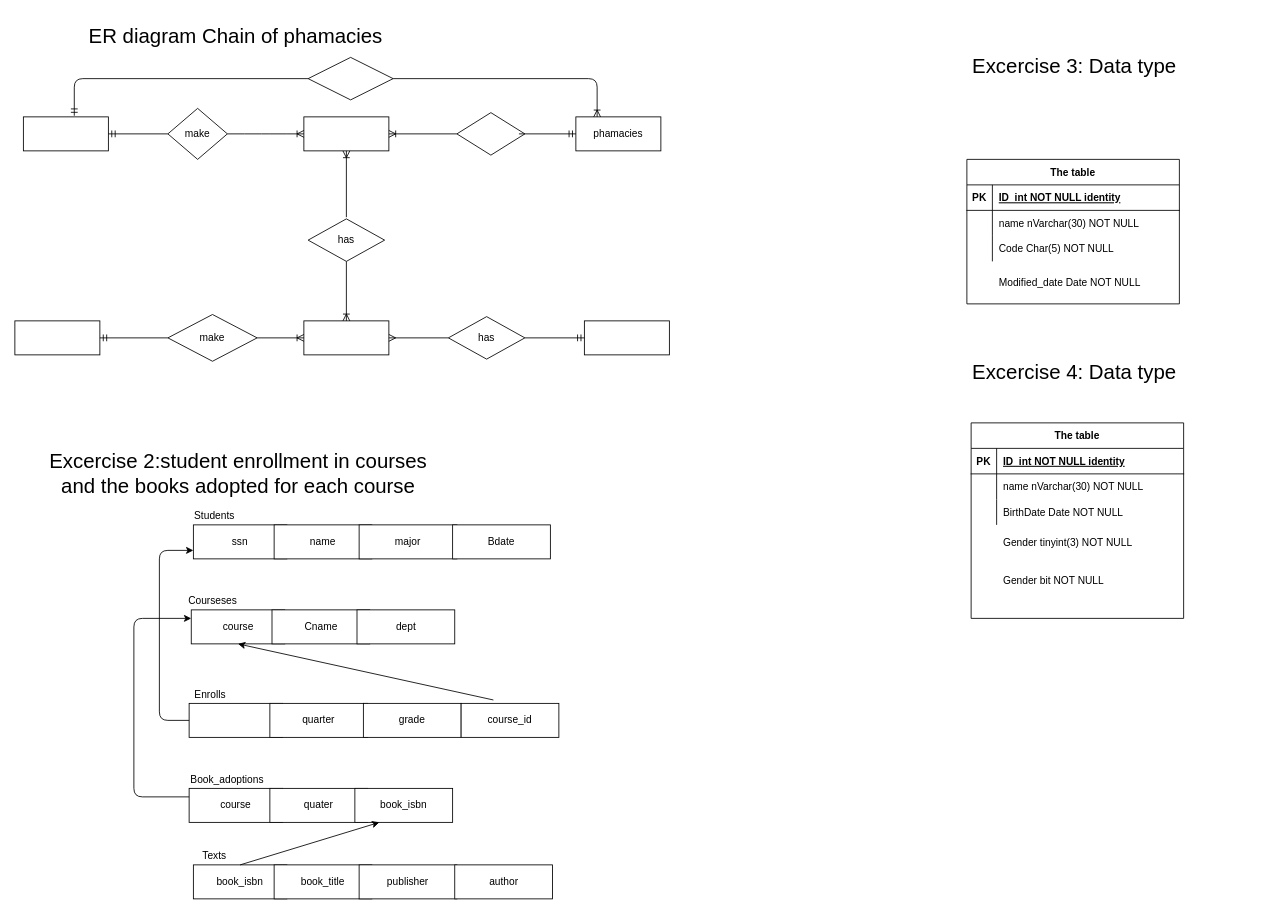
This 1288x914 diagram has some shape labels left out. Here are the shapes that lost their labels. From the top down, the centre of each, then its label:
(350,78): contracts
(65,133): phamaceutial companies
(346,133): drugs
(490,133): sell
(57,337): physicians
(346,337): prescriptions
(626,337): patients
(235,720): ssn_id
